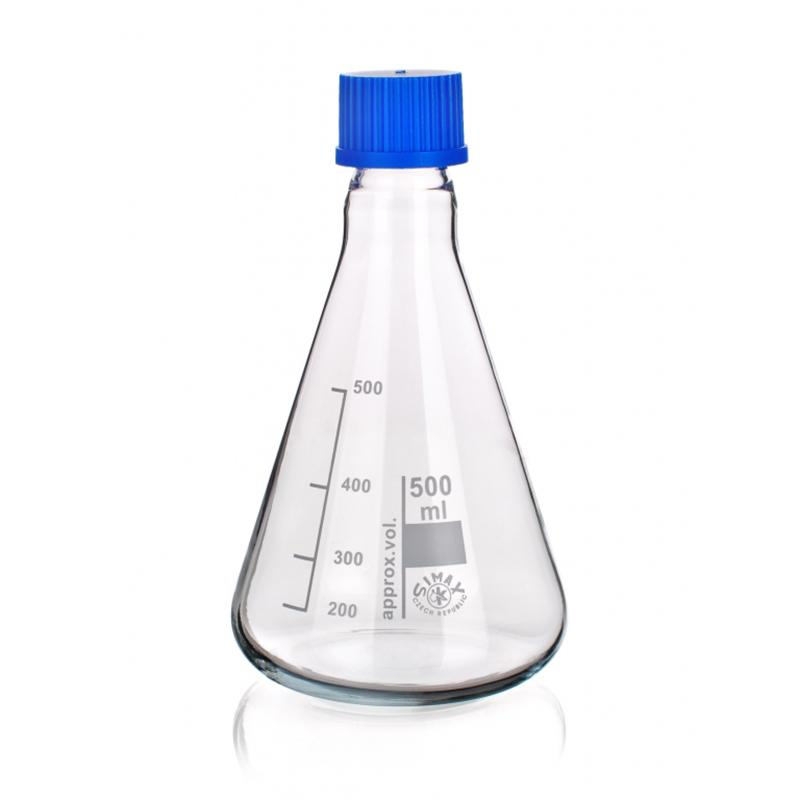Titrarion: (203, 52, 565, 707)
